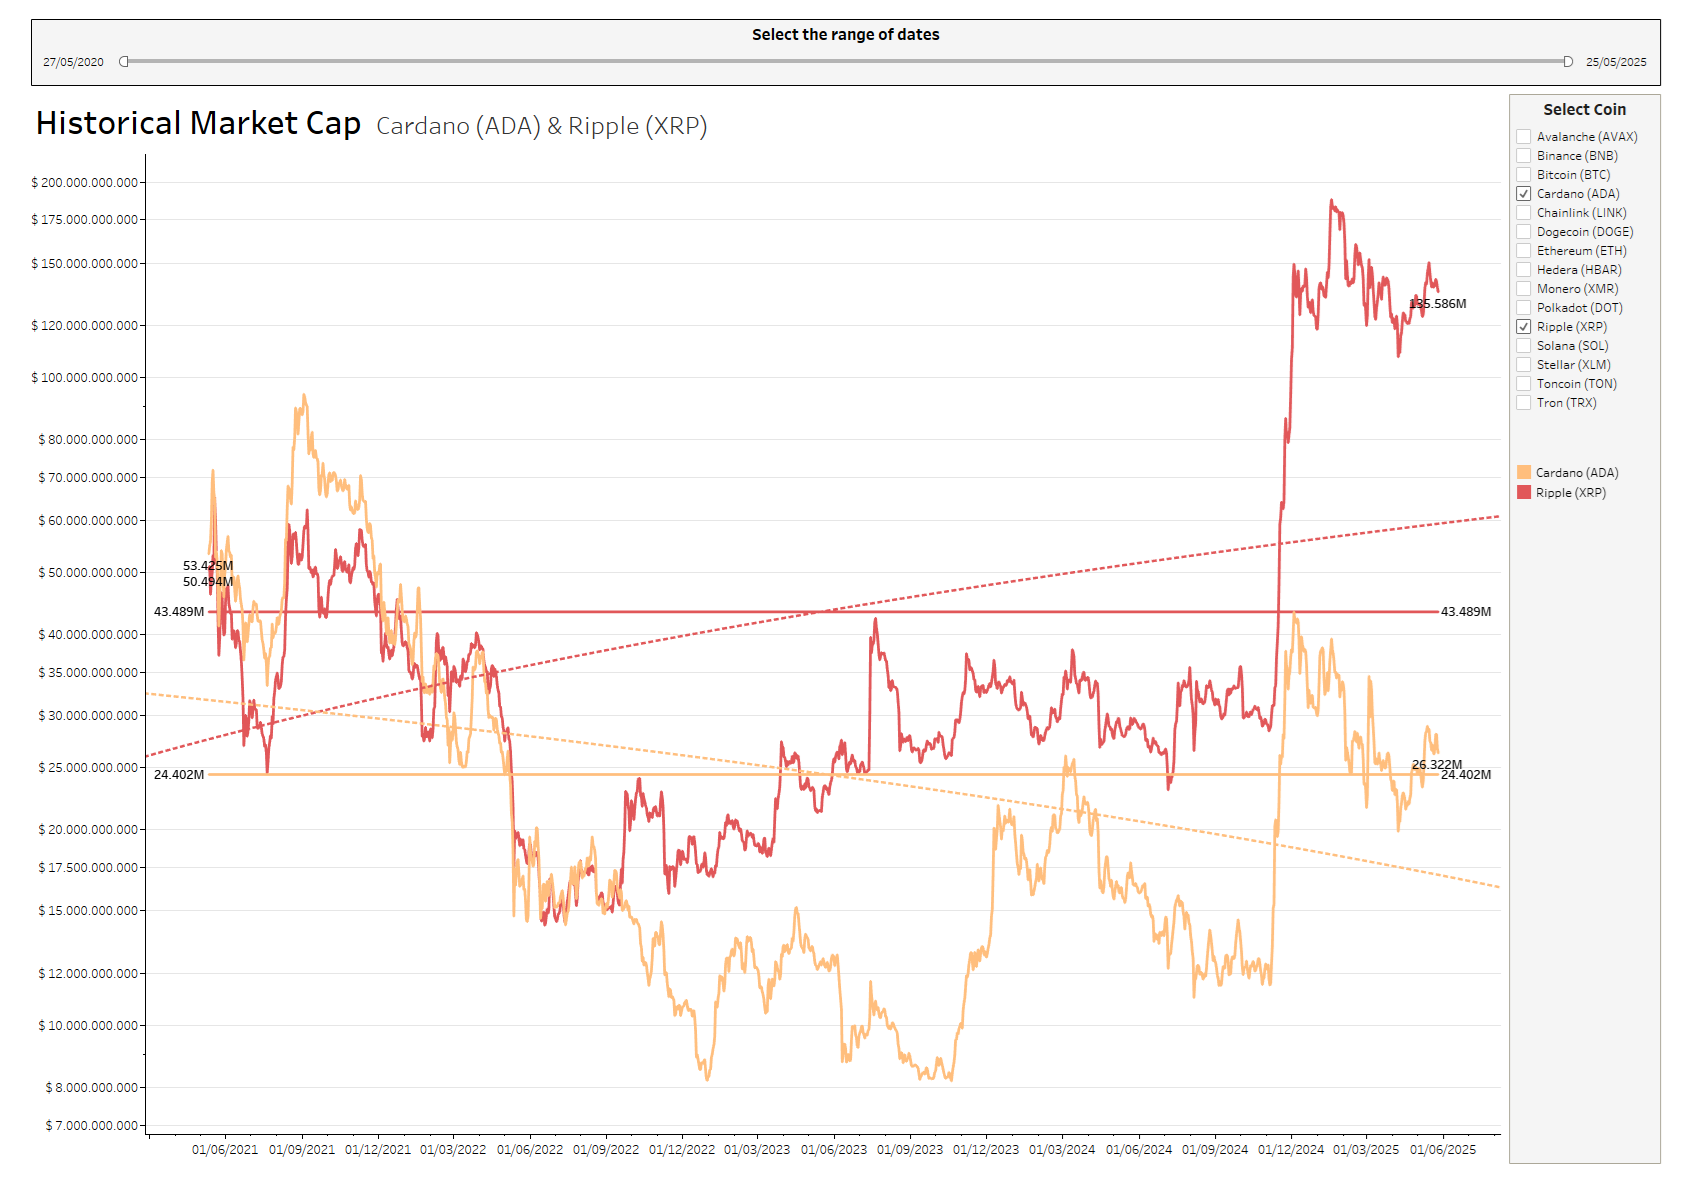

What the dashboard file says about the page in this screenshot:
{"tool":"tableau","page":{"name":"Dash. M.Cap","canvas":[1654,1169],"ordinal":2},"visuals":[{"type":"filter","title":"M. Cap.","param":"[federated.1sxnbkv15zguo016pjmb80ohkvlw].[none:start_date:qk]","box":[8,8,1638,75]},{"type":"worksheet","title":"M. Cap.","mark":"Automatic","cols":["start_date"],"box":[8,83,1478,1078]},{"type":"filter","title":"M. Cap.","param":"[federated.1sxnbkv15zguo016pjmb80ohkvlw].[none:Calculation_3888576818090954753:n","box":[1486,83,160,1078]},{"type":"legend","title":"M. Cap.","param":"[federated.1sxnbkv15zguo016pjmb80ohkvlw].[none:Calculation_3888576818090954753:n","box":[1495,437,140,78]}]}

Visuals, with their boxes in screenshot pixels (x1, y1, x2, y2), scaled from the page's 1654x1169 canvas onto the 1694x1188 screenshot:
"M. Cap." filter: (left=8, top=8, right=1686, bottom=84)
"M. Cap." worksheet: (left=8, top=84, right=1522, bottom=1180)
"M. Cap." filter: (left=1522, top=84, right=1686, bottom=1180)
"M. Cap." legend: (left=1531, top=444, right=1675, bottom=523)
